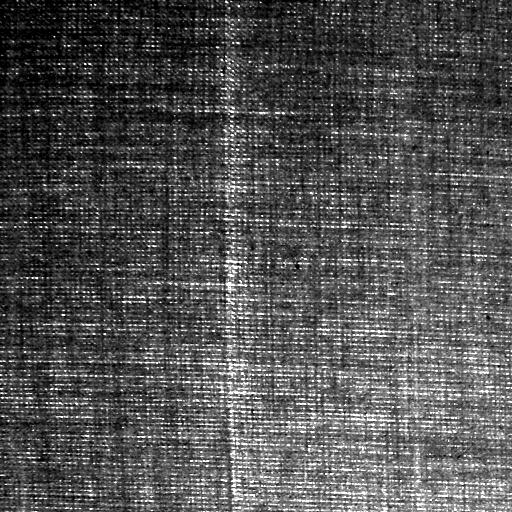fabric_missing_pick: (216, 10, 256, 499)
